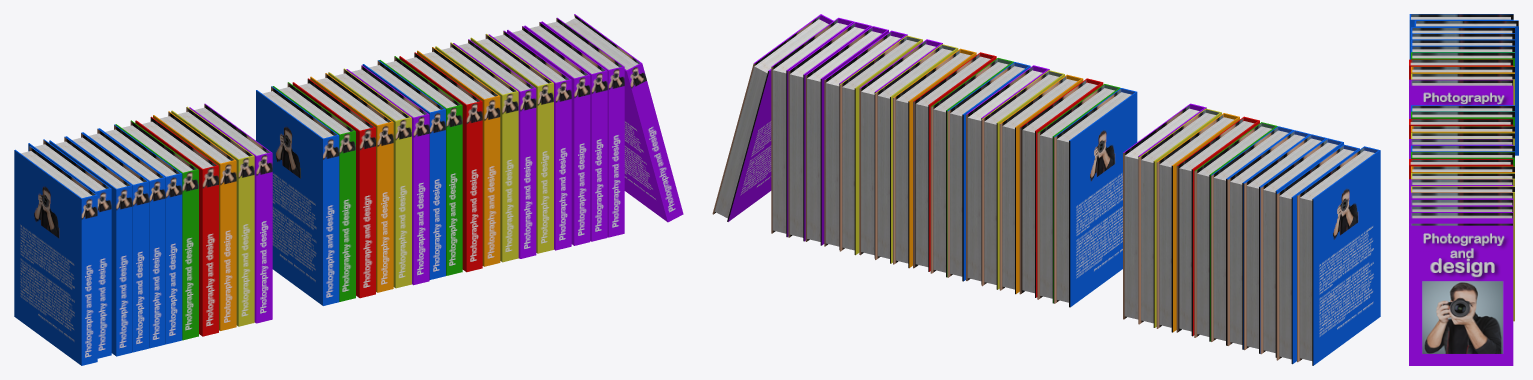
Rendered from books 2.FBX.
The picture shows the model from 3 angles, left to right: view 1: azimuth 30°, elevation 25°; view 2: azimuth 150°, elevation 25°; view 3: azimuth 270°, elevation 25°; orthographic projection. The views are drawn at different scales.
Parts seen in each view (by area): view 1: Books 2; view 2: Books 2; view 3: Books 2.
Part boxes in pixels (box(x1,y1,x2,y2)): Books 2: box(14, 14, 683, 365); Books 2: box(712, 14, 1380, 365); Books 2: box(1409, 14, 1518, 365).
Size of the model in its own units: 84.72 by 22.44 by 17.32.
1 material, 1 textured.
